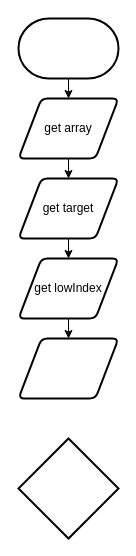
This 136x556 diagram has some shape labels left out. Here are the shapes that lost their labels. From the top down, the centre of each, then its label:
pixel 68 48: Start
pixel 68 368: get highIndex
